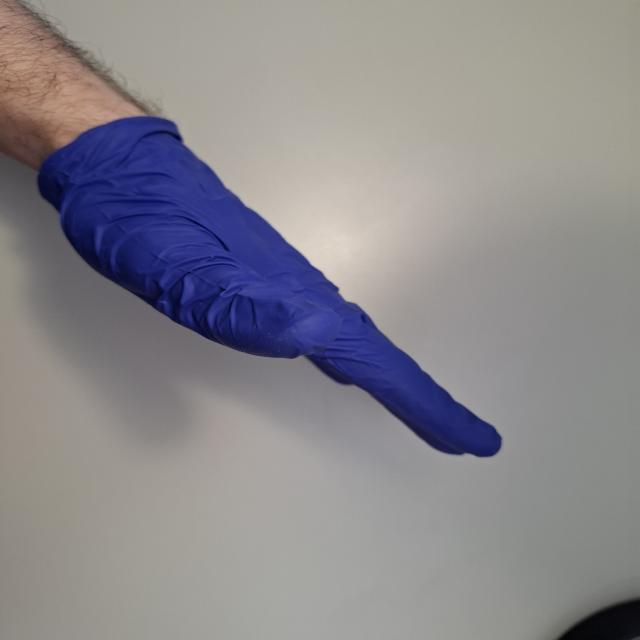glove_on: (27, 110, 518, 463)
